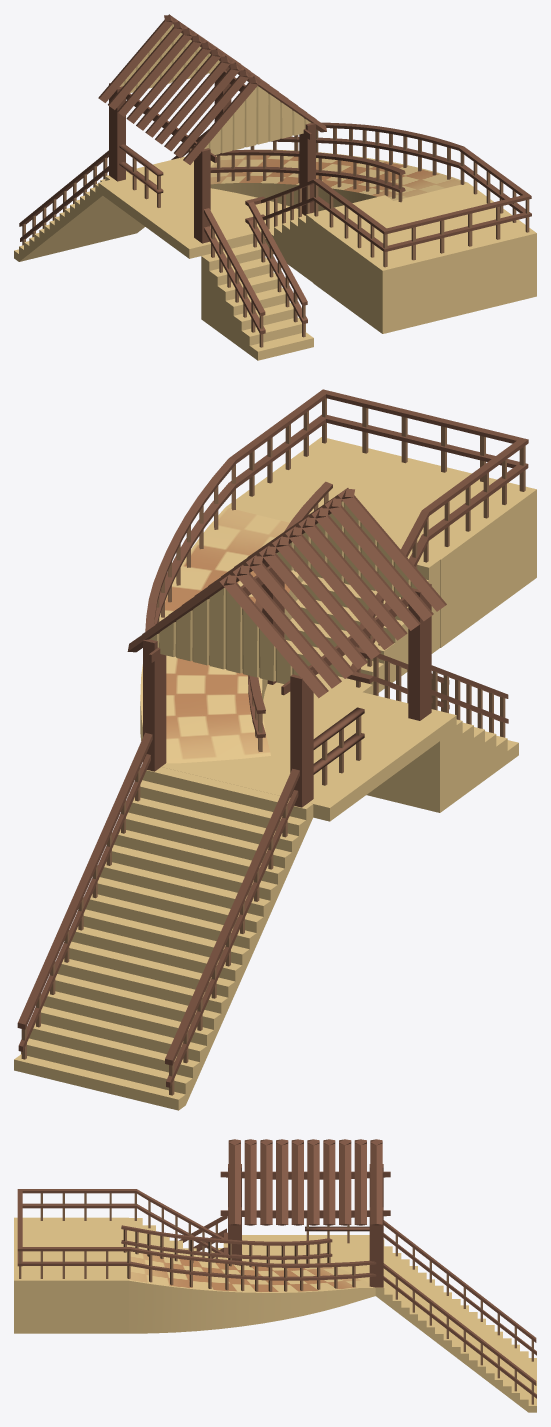
The model's file is WoodRoast.fbx.
3 views of the same model, one above another, from view 1: azimuth 30°, elevation 25°; view 2: azimuth 150°, elevation 25°; view 3: azimuth 270°, elevation 25° (orthographic). The views are drawn at different scales.
Parts seen in each view (by area): view 1: Station_Goal, Object038, Object039; view 2: Station_Goal, Object039, Object038; view 3: Station_Goal, Object038, Object039.
Boxes of the visible parts, left/top/right/bottom form: Station_Goal: left=14, top=149, right=536, bottom=360; Object038: left=19, top=122, right=531, bottom=347; Object039: left=98, top=14, right=326, bottom=243; Station_Goal: left=14, top=437, right=536, bottom=1110; Object039: left=127, top=488, right=446, bottom=807; Object038: left=17, top=389, right=528, bottom=1095; Station_Goal: left=14, top=1217, right=536, bottom=1412; Object038: left=17, top=1189, right=536, bottom=1404; Object039: left=220, top=1139, right=390, bottom=1287.
Size of the model in its own units: 749 by 963 by 1827.
